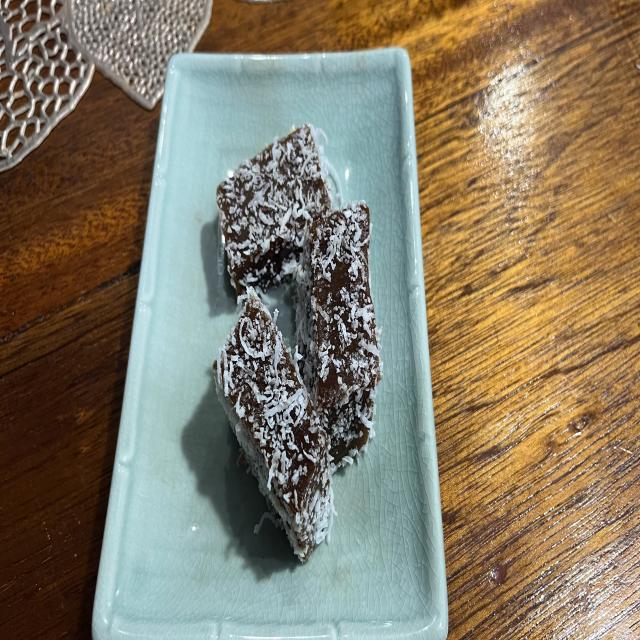kaswi: (212, 289, 334, 562), (296, 202, 381, 469), (216, 124, 331, 293)
